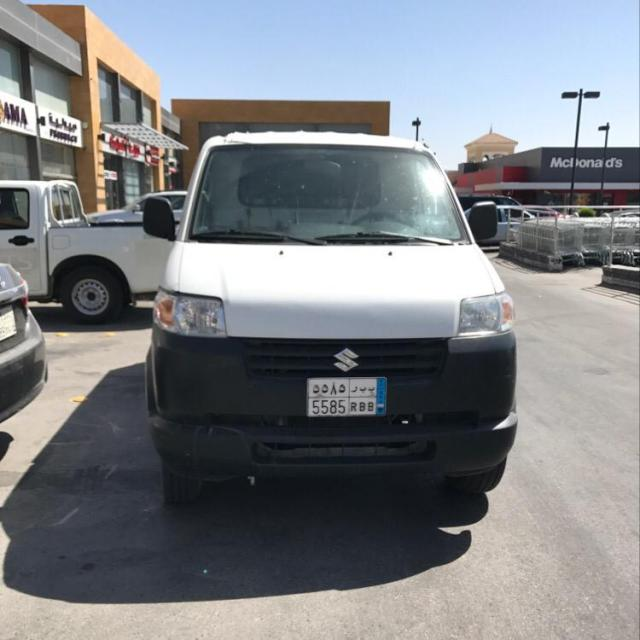license_plate: (306, 376, 388, 416), (0, 310, 18, 346)
